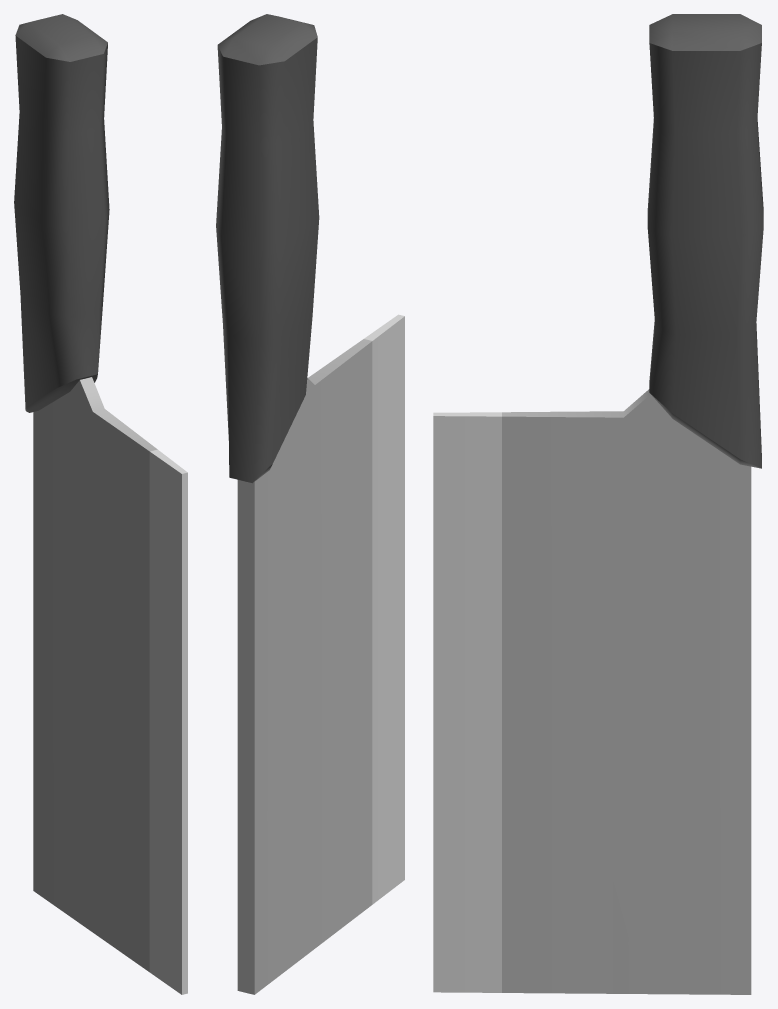
File: SM_Kitchen_Knife_L.fbx
3 views of the same model, side by side, from view 1: azimuth 30°, elevation 25°; view 2: azimuth 150°, elevation 25°; view 3: azimuth 270°, elevation 25° (orthographic). The views are drawn at different scales.
Visible parts, largest first — view 1: SM_Kitchen_Knife_L; view 2: SM_Kitchen_Knife_L; view 3: SM_Kitchen_Knife_L.
Boxes of the visible parts, bbox=[...] form: SM_Kitchen_Knife_L: bbox=[14, 14, 187, 994]; SM_Kitchen_Knife_L: bbox=[216, 14, 404, 994]; SM_Kitchen_Knife_L: bbox=[433, 14, 763, 994].
Size of the model in its own units: 0.0206 by 0.2686 by 0.0831.
